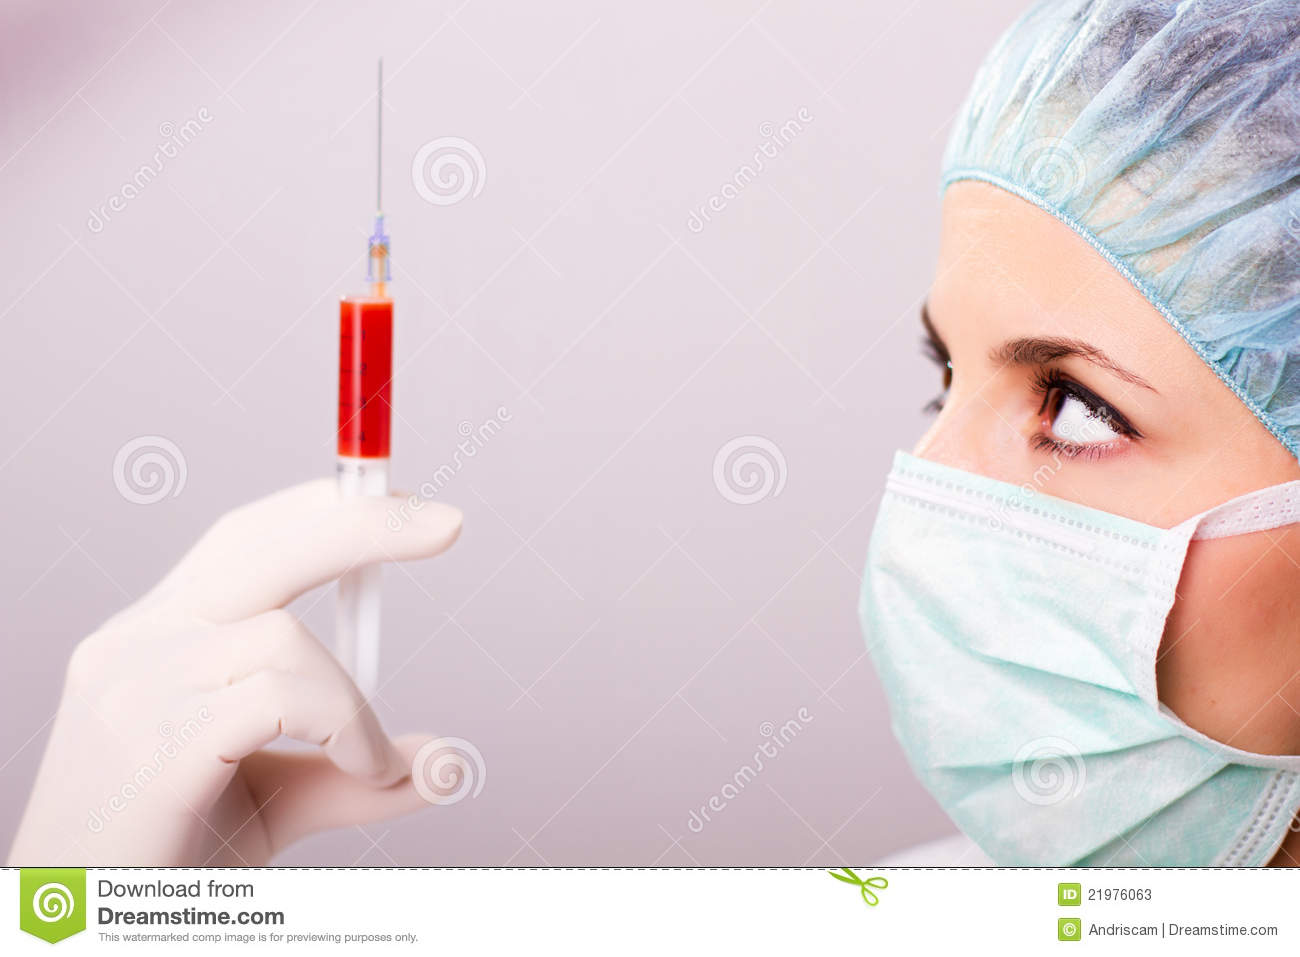mask: (861, 452, 1300, 871)
